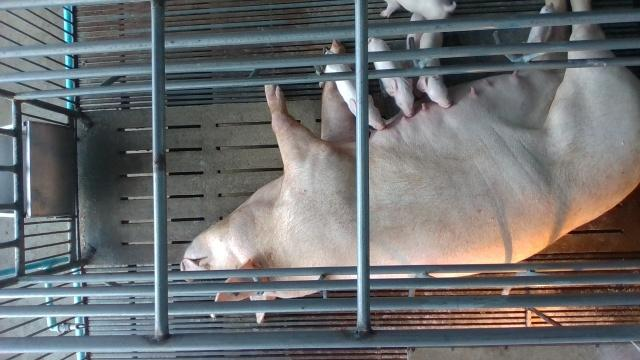piglet: (326, 50, 385, 131), (368, 38, 415, 118), (416, 32, 454, 108), (381, 0, 458, 22)
sow-sleep-lactate: (180, 0, 640, 325)
